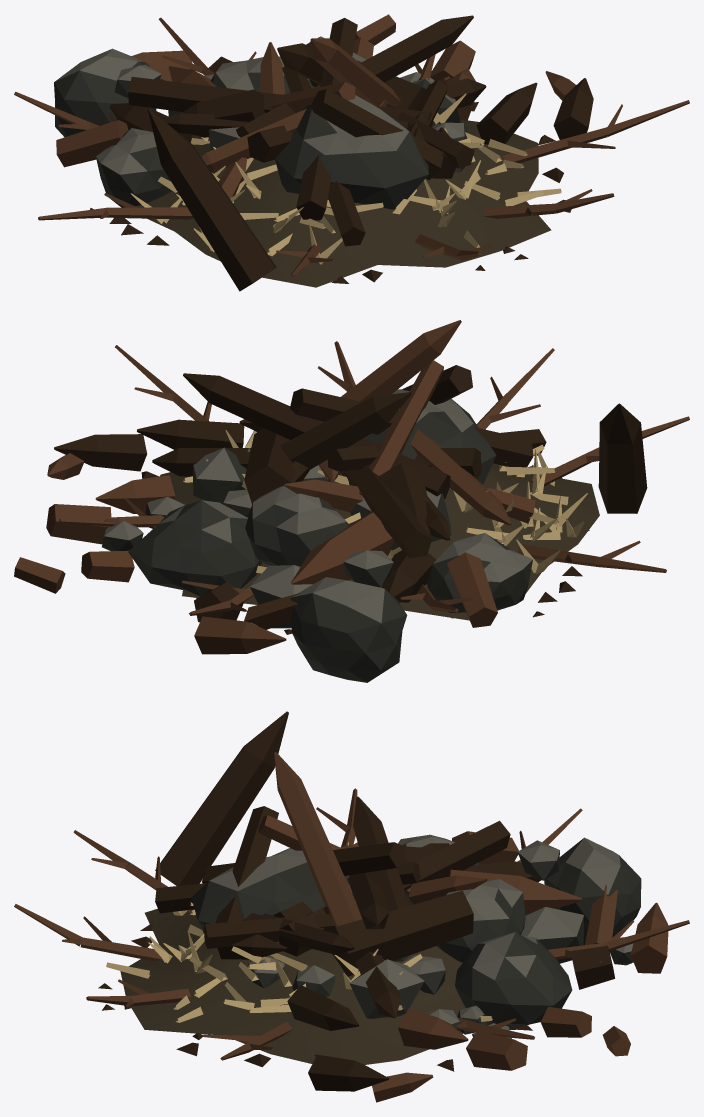
The model's file is ZonWall08a.glb.
3 views of the same model, one above another, from view 1: azimuth 30°, elevation 25°; view 2: azimuth 150°, elevation 25°; view 3: azimuth 270°, elevation 25° (orthographic). The views are drawn at different scales.
Visible parts, largest first — view 1: pile_bed; view 2: pile_bed; view 3: pile_bed.
Part boxes in pixels (x1,y1,x2,y2): pile_bed: [14, 14, 689, 291]; pile_bed: [14, 320, 689, 682]; pile_bed: [14, 711, 689, 1102].
Bounding box in the file's own units: 4.99 × 1.74 × 4.9.
